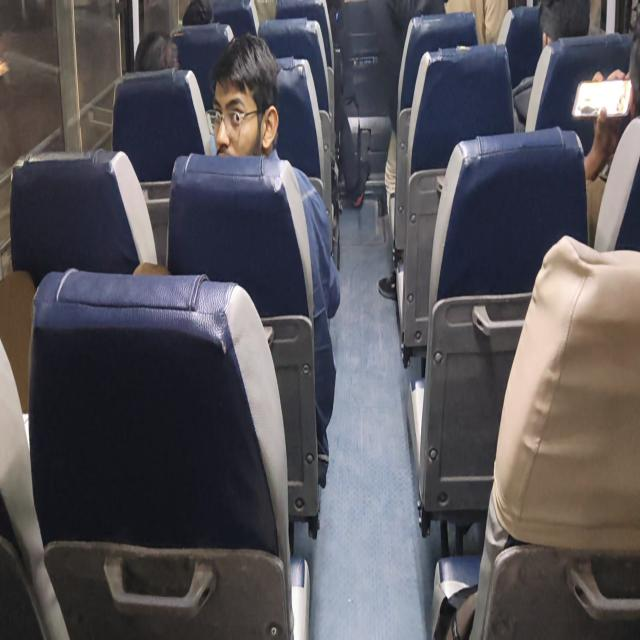person: (209, 60, 287, 157), (533, 6, 593, 69), (137, 17, 182, 82), (629, 10, 640, 137), (186, 0, 211, 36)
